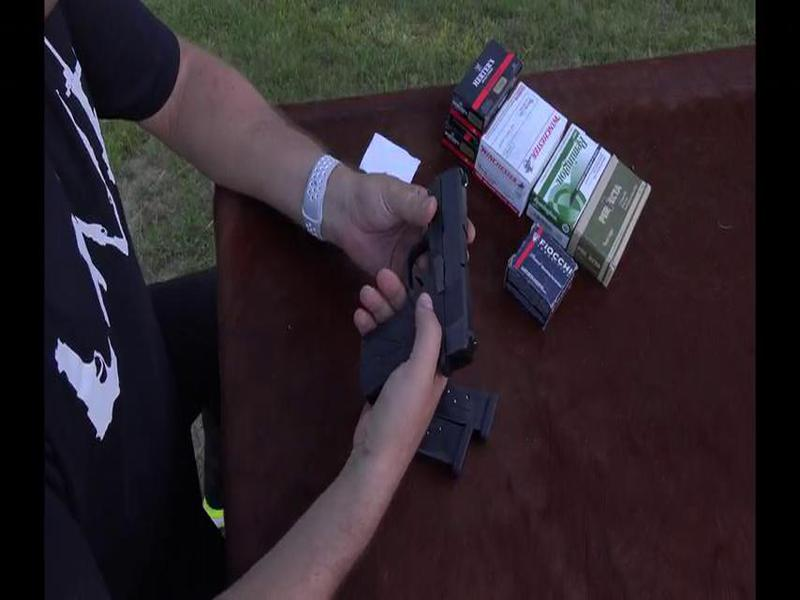Pistola: (349, 156, 492, 412)
